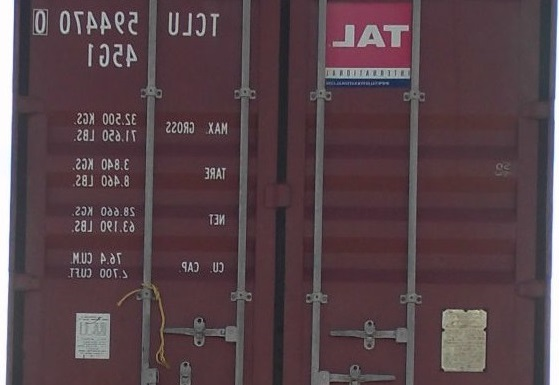container_door: (15, 5, 553, 383)
